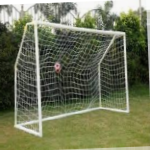goals: (12, 18, 132, 139)
